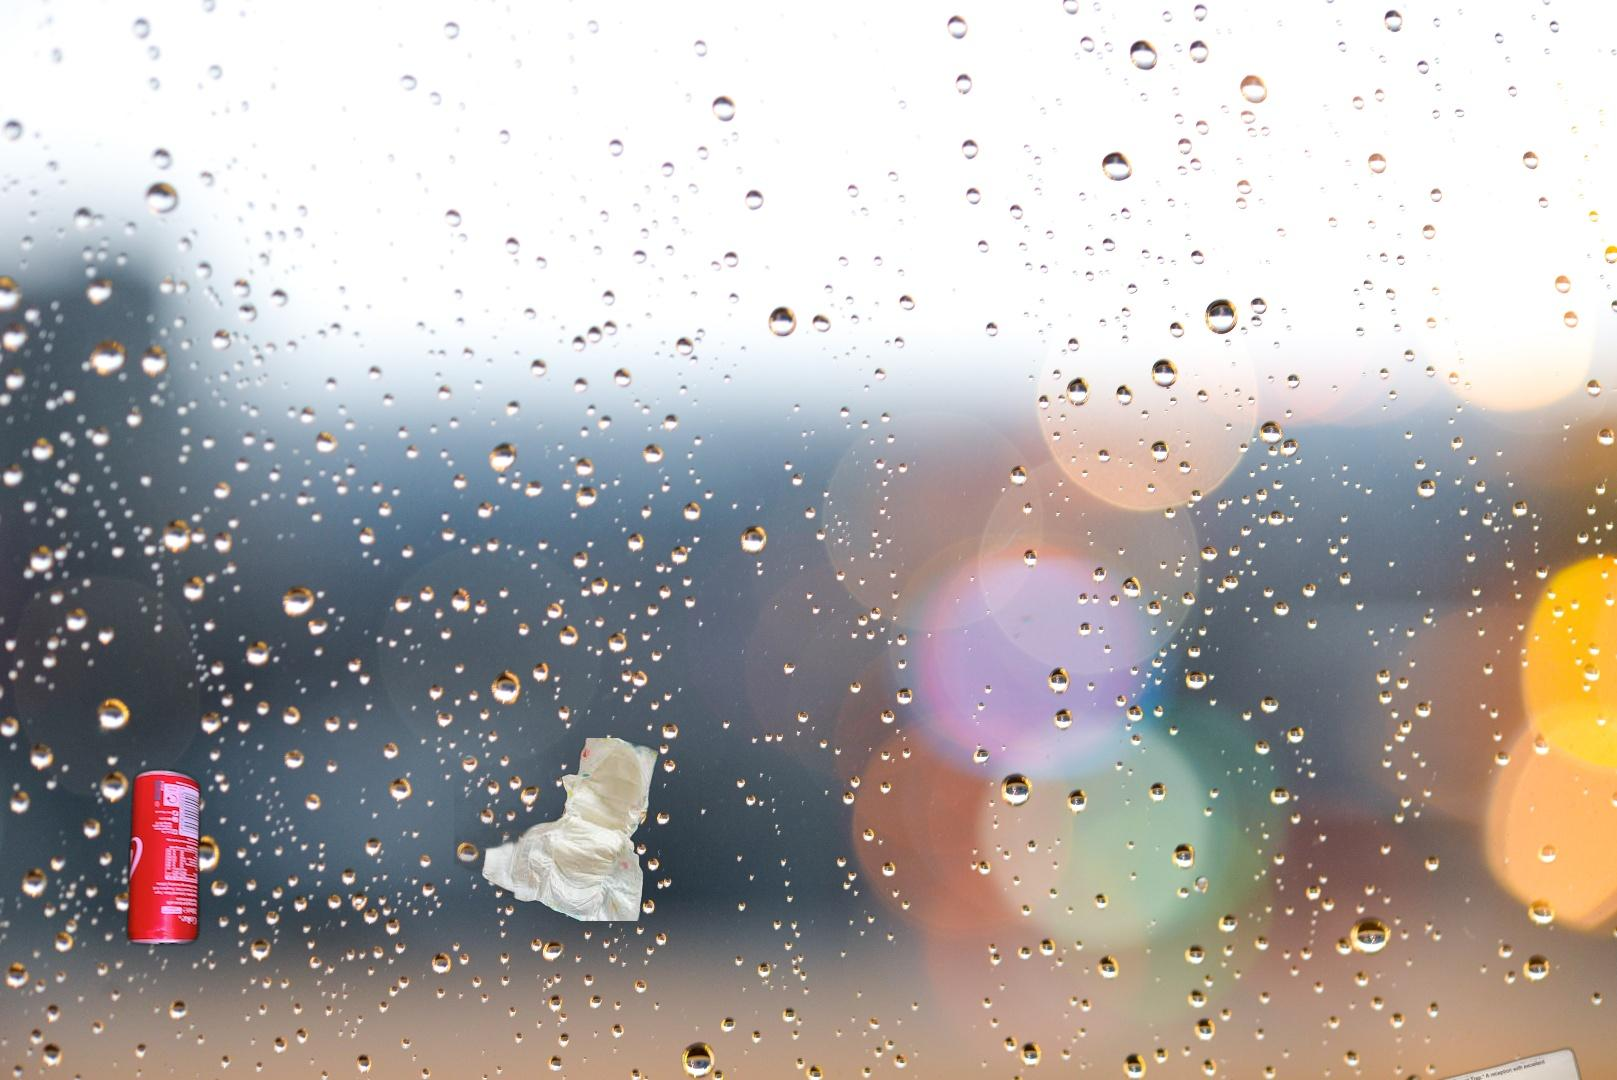metal-cans: (122, 763, 206, 952)
paper: (1368, 1045, 1601, 1080)
trash: (454, 738, 663, 921)
